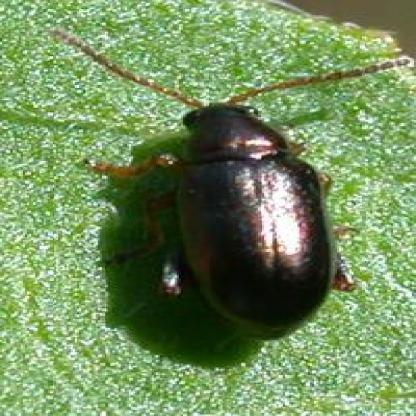beetle: (51, 21, 416, 341)
